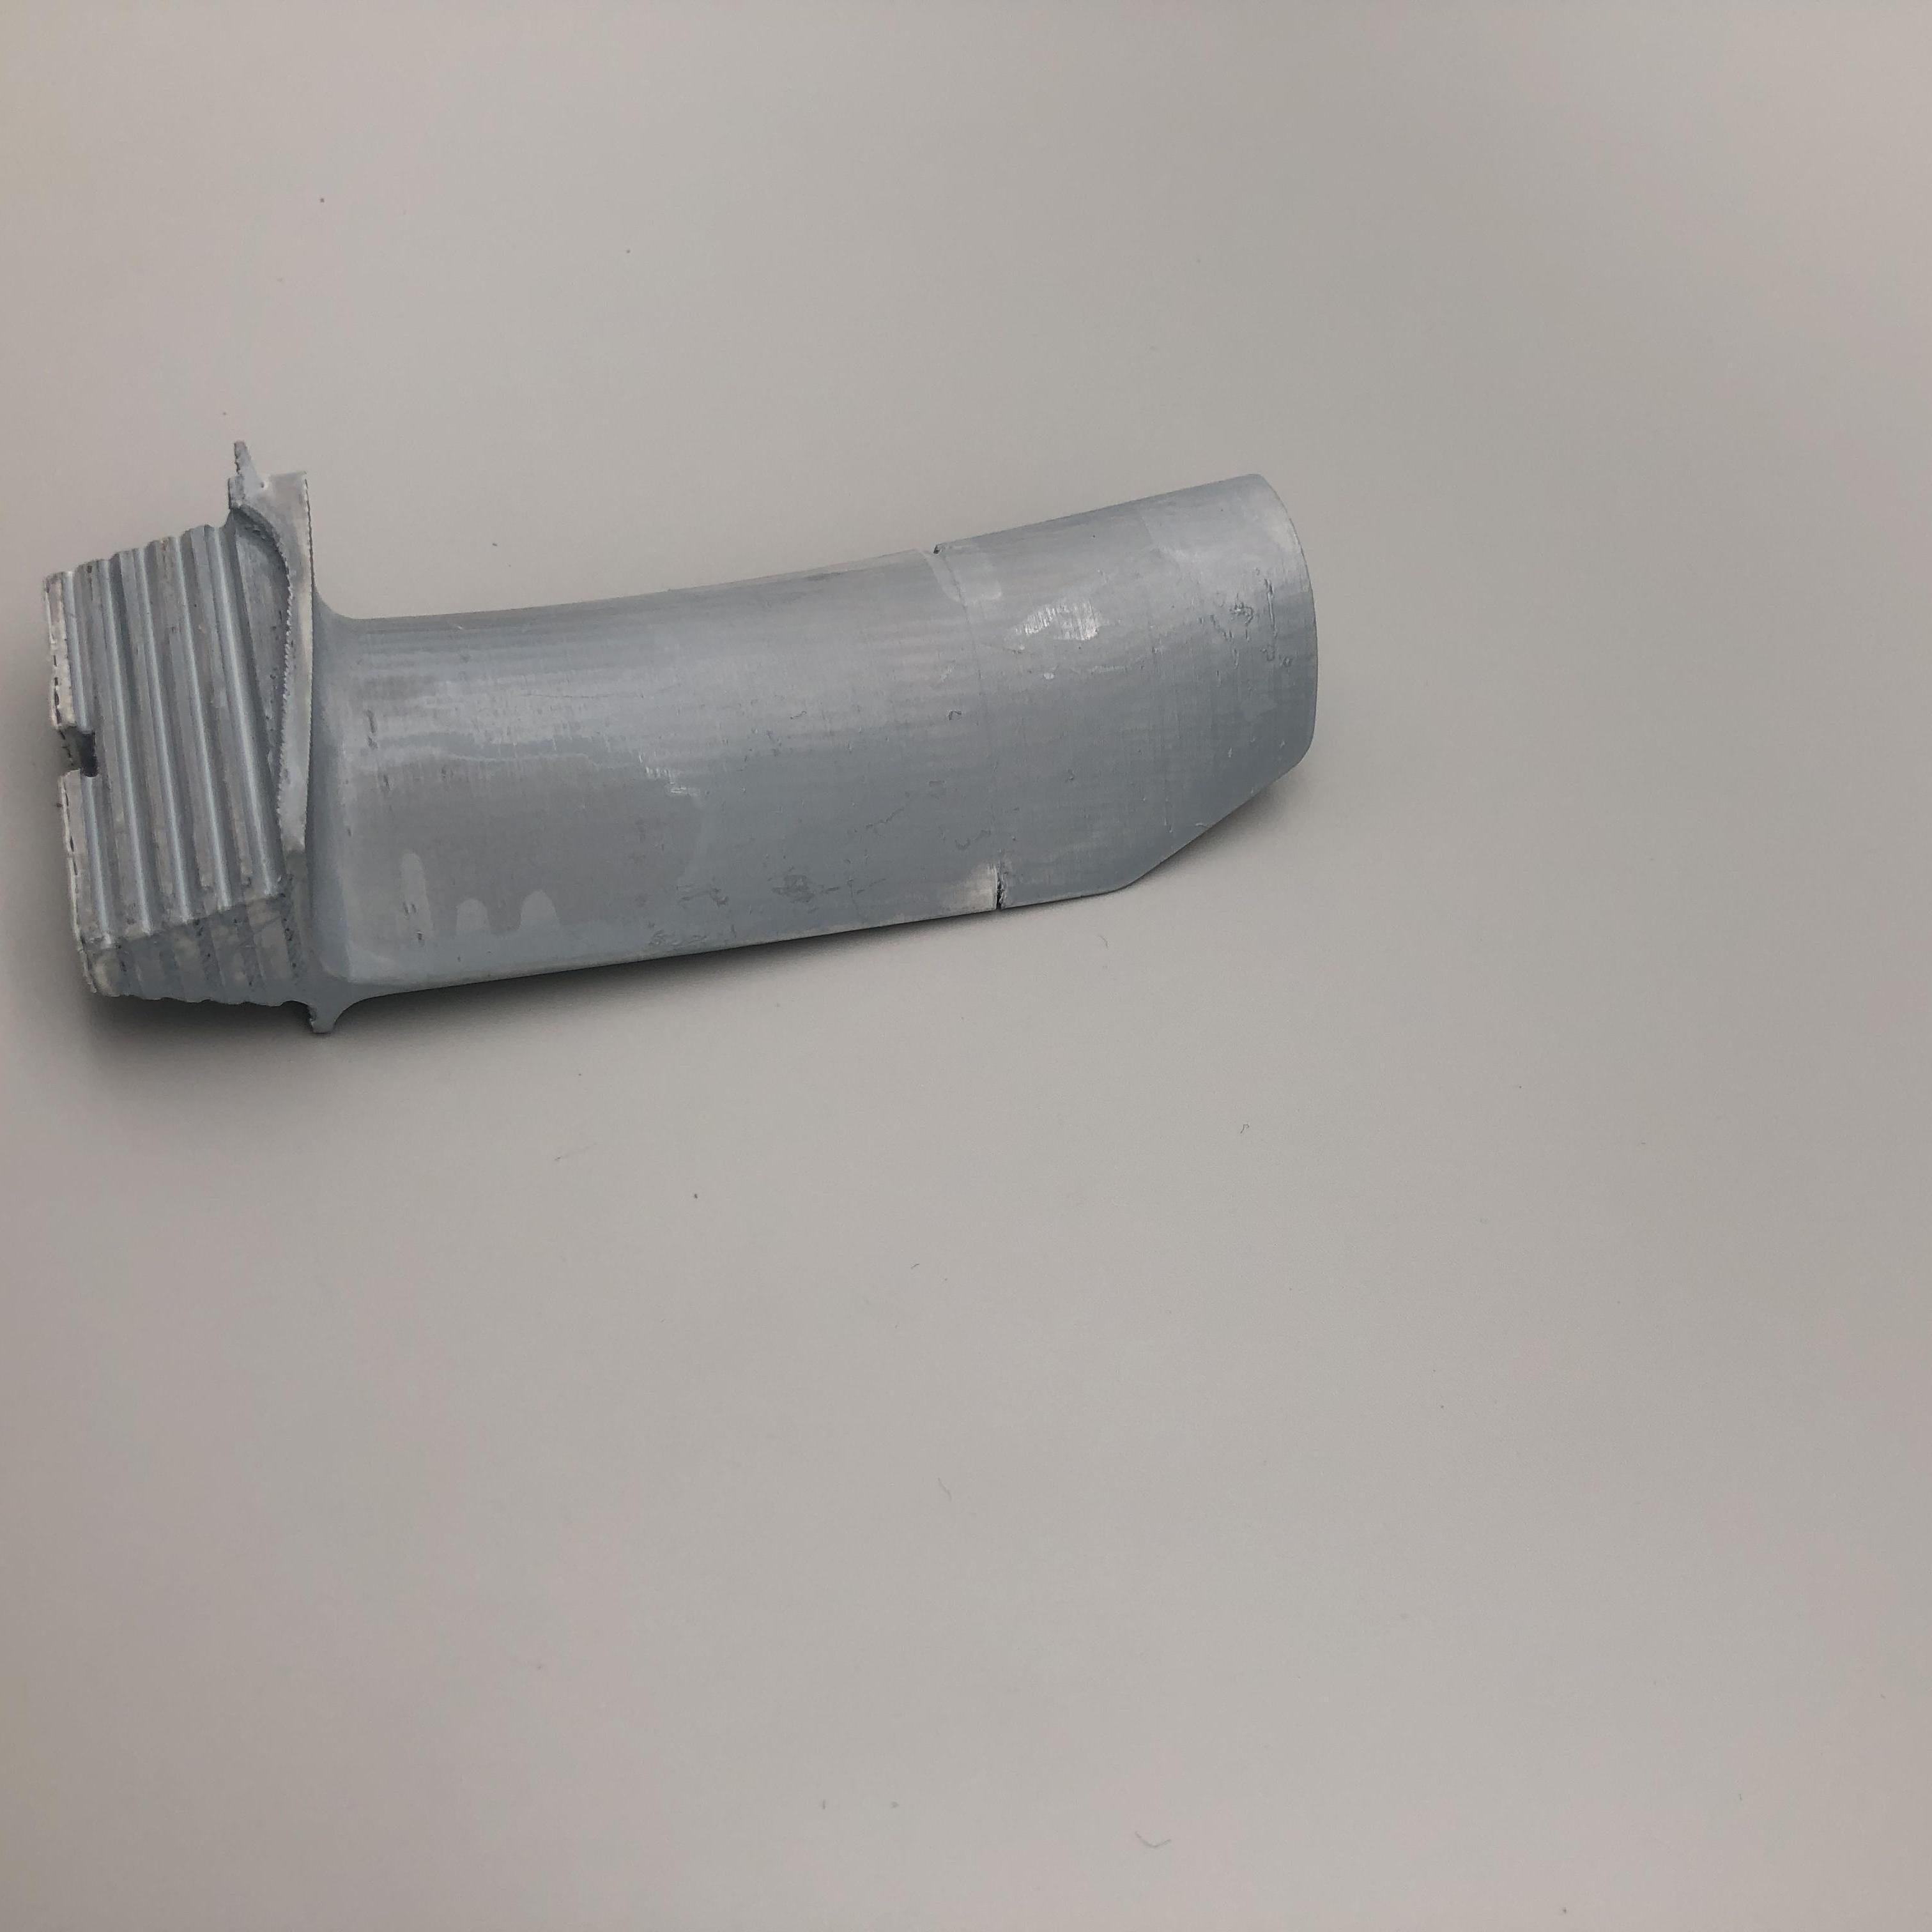groove: (989, 860, 1023, 909)
